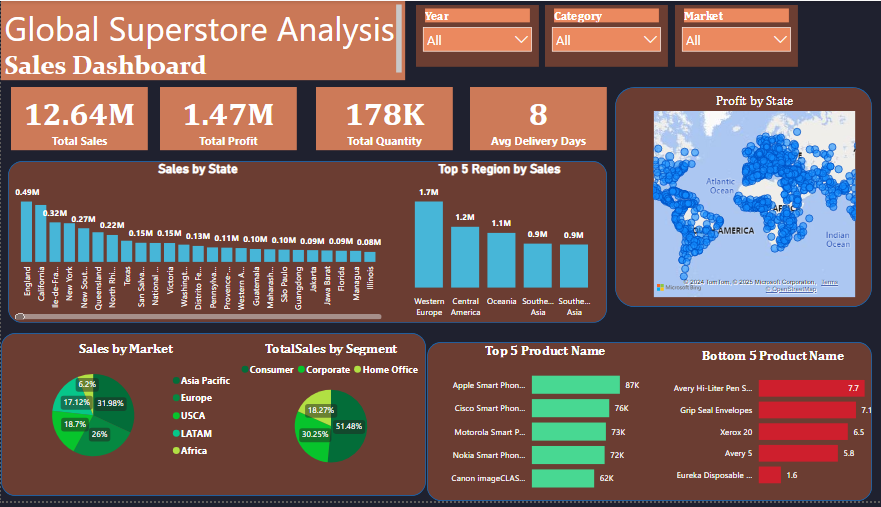

This screenshot's page, from the dashboard's own definition file:
{"tool":"powerbi","page":{"name":"Page 1","canvas":[1280,720],"ordinal":0},"visuals":[{"type":"textbox","box":[0,0,581.8,113.8],"z":0},{"type":"slicer","fields":{"Values":["Orders.Order Date.Variation.Date Hierarchy.Year"]},"box":[597.6,5.8,177.1,89.3],"z":1000},{"type":"slicer","fields":{"Values":["Orders.Category"]},"box":[783.4,5.8,177.1,89.3],"z":2000},{"type":"slicer","fields":{"Values":["Orders.Market"]},"box":[970.6,5.8,177.1,89.3],"z":3000},{"type":"card","fields":{"Values":["Orders.Sales"]},"box":[14.4,123.8,197.3,90.7],"z":4000},{"type":"card","fields":{"Values":["Orders.Profit"]},"box":[229,123.8,197.3,90.7],"z":5000},{"type":"card","fields":{"Values":["Orders.Quantity"]},"box":[453.6,123.8,197.3,90.7],"z":6000},{"type":"card","fields":{"Values":["Orders.Avg Delivery Days"]},"box":[675.4,123.8,197.3,90.7],"z":7000},{"type":"shape","box":[10.1,230.4,862.6,233.3],"z":8000},{"type":"shape","box":[0,478.1,612,234.7],"z":9000},{"type":"shape","box":[613.4,491,640.8,229],"z":10000},{"type":"columnChart","title":"Sales by State","fields":{"Category":["Orders.State"],"Y":["Orders.Sales"]},"box":[14.4,230.4,538.6,233.3],"z":11000},{"type":"columnChart","title":"Top 5 Region by Sales","fields":{"Category":["Orders.Region"],"Y":["Orders.Sales"]},"box":[563,230.4,309.6,233.3],"z":12000},{"type":"pieChart","title":"Sales by Market","fields":{"Category":["Orders.Market"],"Y":["Orders.Sales"]},"box":[14.4,488.2,329.8,194.4],"z":13000},{"type":"pieChart","title":"TotalSales by Segment","fields":{"Y":["Orders.Sales"],"Category":["Orders.Segment"]},"box":[338.4,488.2,273.6,197.3],"z":14000},{"type":"barChart","title":"Top 5 Product Name","fields":{"Category":["Orders.Product Name"],"Y":["Orders.Sales"]},"box":[632.2,491,302.4,229],"z":15000},{"type":"barChart","title":"Bottom 5 Product Name","fields":{"Category":["Orders.Product Name"],"Y":["Orders.Sales"]},"box":[951.8,498.2,318.2,214.6],"z":16000},{"type":"shape","box":[884.2,123.8,370.1,316.8],"z":17000},{"type":"map","title":"Profit by State","fields":{"Size":["Orders.Profit"],"Category":["Orders.State"]},"box":[934.6,131,301,301],"z":18000}]}

Visuals, with their boxes in screenshot pixels (x1, y1, x2, y2), scaled from the page's 1280x720 canvas onto the 881x507 screenshot:
textbox: <bbox>0, 0, 400, 80</bbox>
slicer - Orders.Order Date.Variation.Date Hierarchy.Year: <bbox>411, 4, 533, 67</bbox>
slicer - Orders.Category: <bbox>539, 4, 661, 67</bbox>
slicer - Orders.Market: <bbox>668, 4, 790, 67</bbox>
card - Orders.Sales: <bbox>10, 87, 146, 151</bbox>
card - Orders.Profit: <bbox>158, 87, 293, 151</bbox>
card - Orders.Quantity: <bbox>312, 87, 448, 151</bbox>
card - Orders.Avg Delivery Days: <bbox>465, 87, 601, 151</bbox>
shape: <bbox>7, 162, 601, 327</bbox>
shape: <bbox>0, 337, 421, 502</bbox>
shape: <bbox>422, 346, 863, 506</bbox>
"Sales by State" columnChart: <bbox>10, 162, 381, 327</bbox>
"Top 5 Region by Sales" columnChart: <bbox>388, 162, 601, 327</bbox>
"Sales by Market" pieChart: <bbox>10, 344, 237, 481</bbox>
"TotalSales by Segment" pieChart: <bbox>233, 344, 421, 483</bbox>
"Top 5 Product Name" barChart: <bbox>435, 346, 643, 506</bbox>
"Bottom 5 Product Name" barChart: <bbox>655, 351, 874, 502</bbox>
shape: <bbox>609, 87, 863, 310</bbox>
"Profit by State" map: <bbox>643, 92, 850, 304</bbox>
